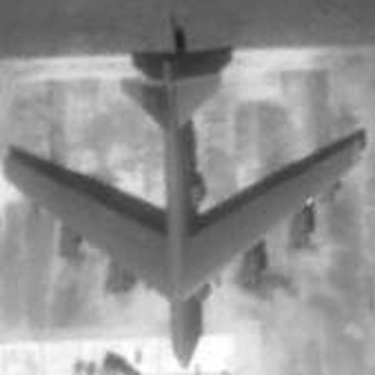airplane: (4, 23, 366, 370)
